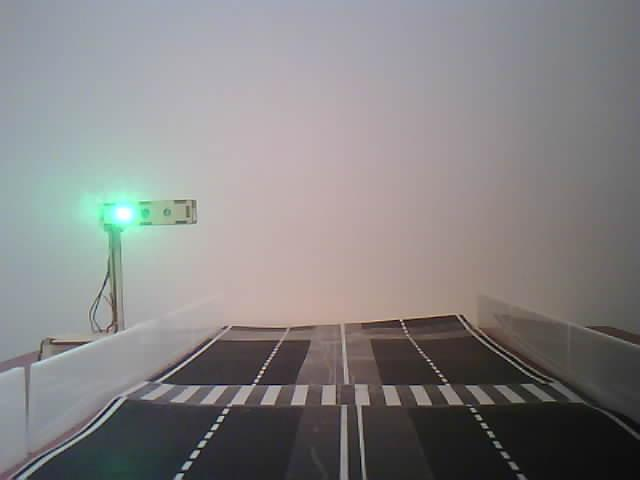crosswalk: (113, 375, 572, 422)
green: (96, 196, 207, 280)
